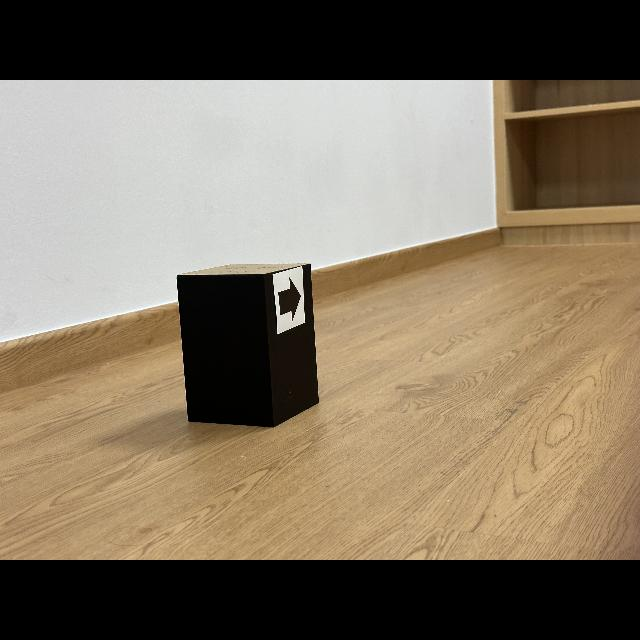RIGHT: (279, 279, 301, 320)
